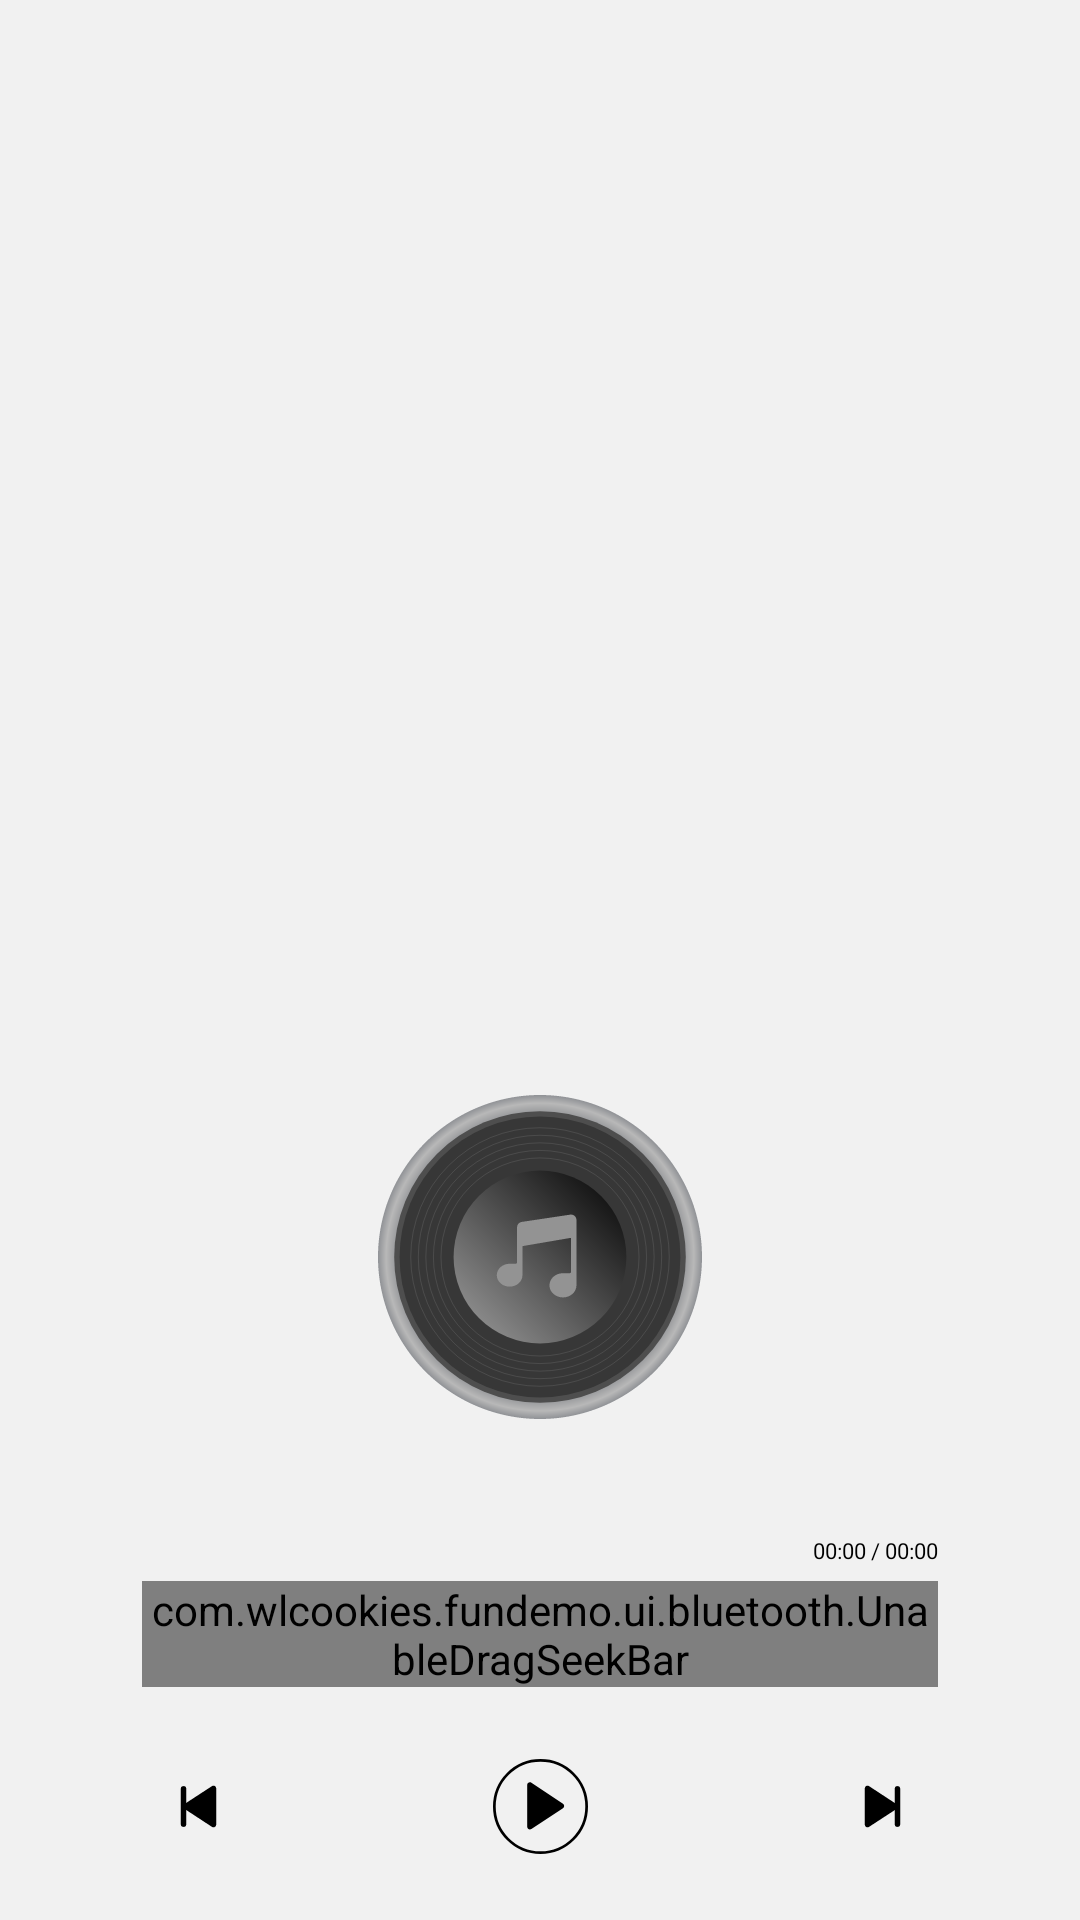

Where icons sit on this 1080 x 1920 app screen, as (x1, y1, x2, y2):
上一曲: (180, 1785, 217, 1828)
下一曲: (864, 1785, 901, 1828)
播放: (493, 1759, 588, 1854)
音乐图标: (378, 1095, 702, 1419)
